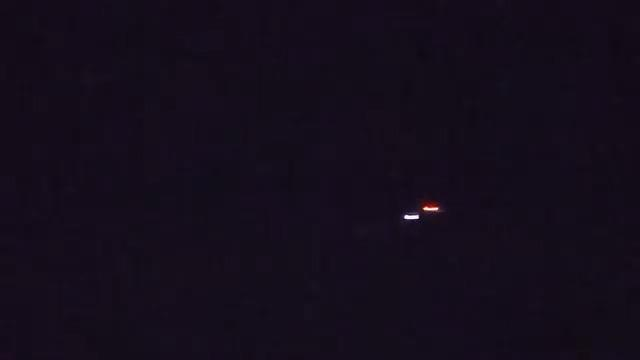Plane: (382, 196, 464, 228)
